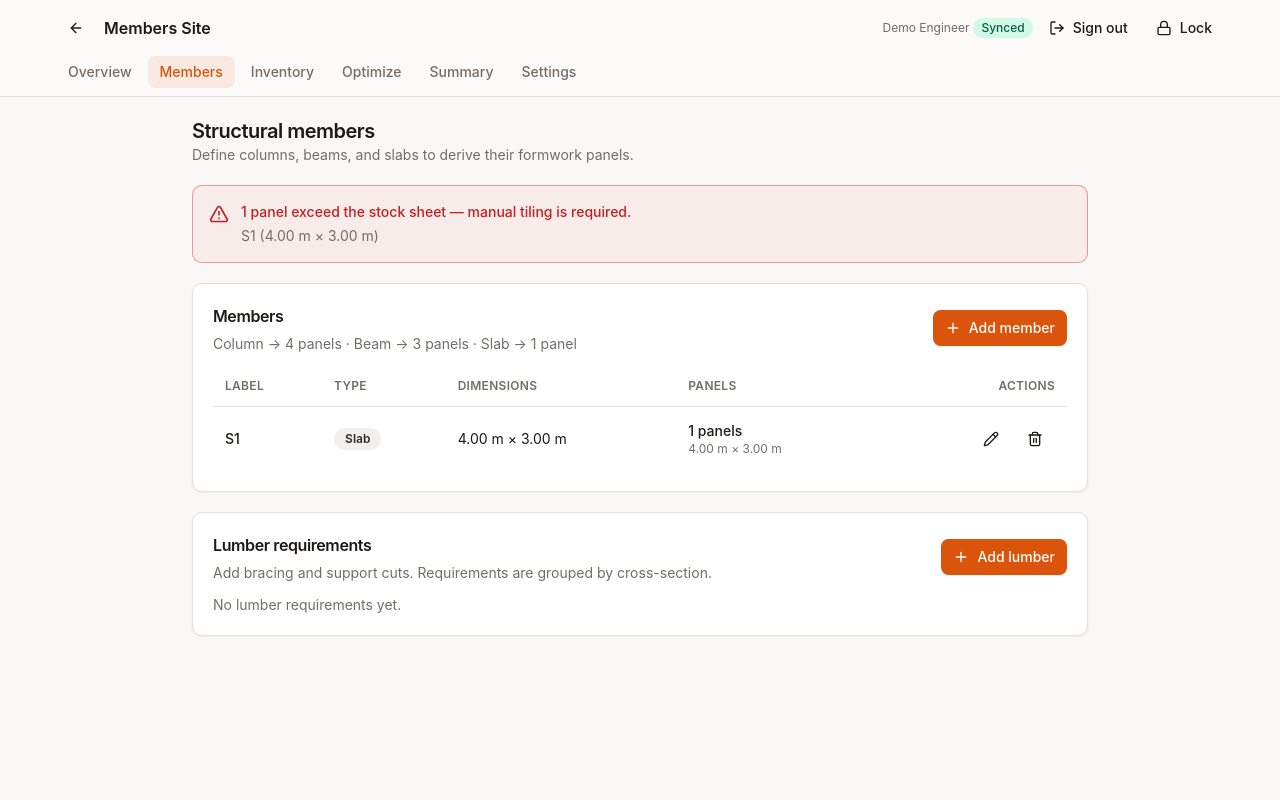
it: StructuralMembersScreen › deletes a member
Expected: the heading "Structural members" is shown, x1=192 y1=119 x2=375 y2=143
Click the button named "delete S1": (1035, 438) x1=1015 y1=418 x2=1055 y2=458
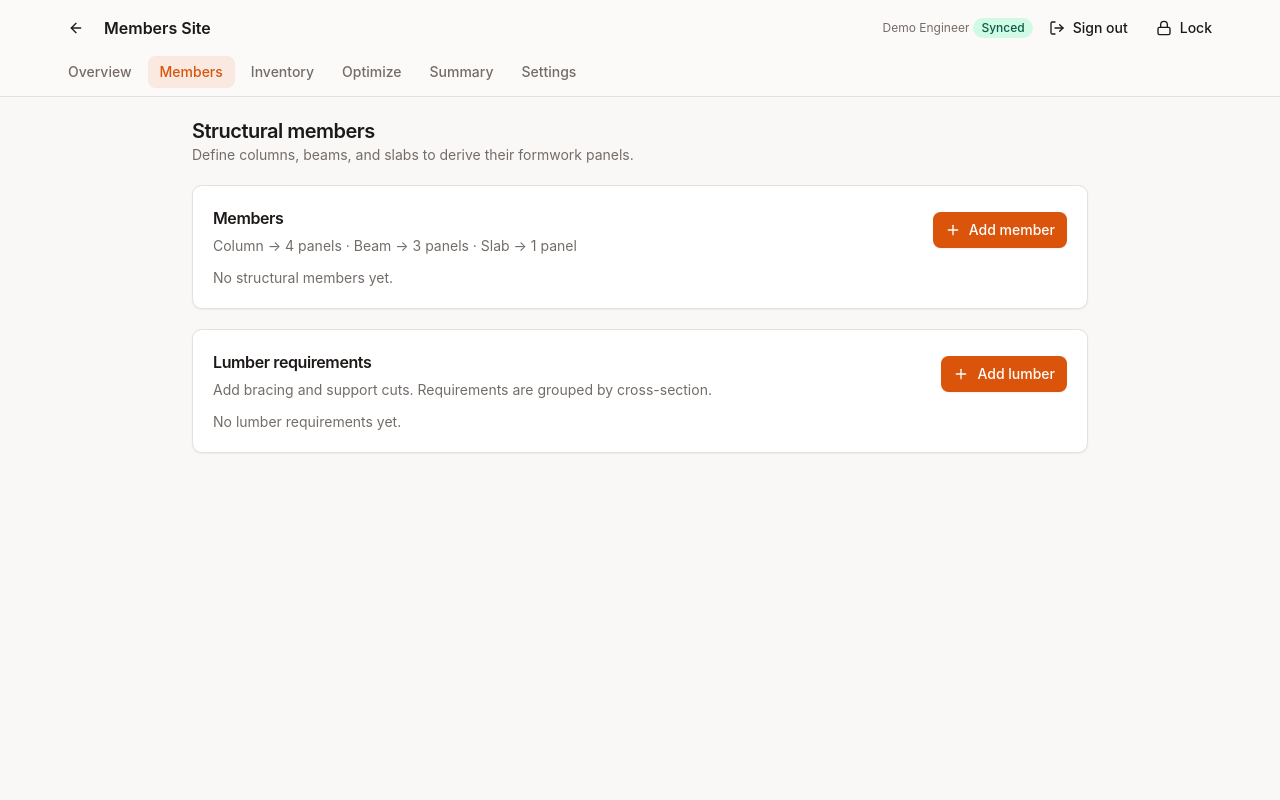
Expected: the text "No structural members yet." is shown, x1=213 y1=269 x2=393 y2=286
